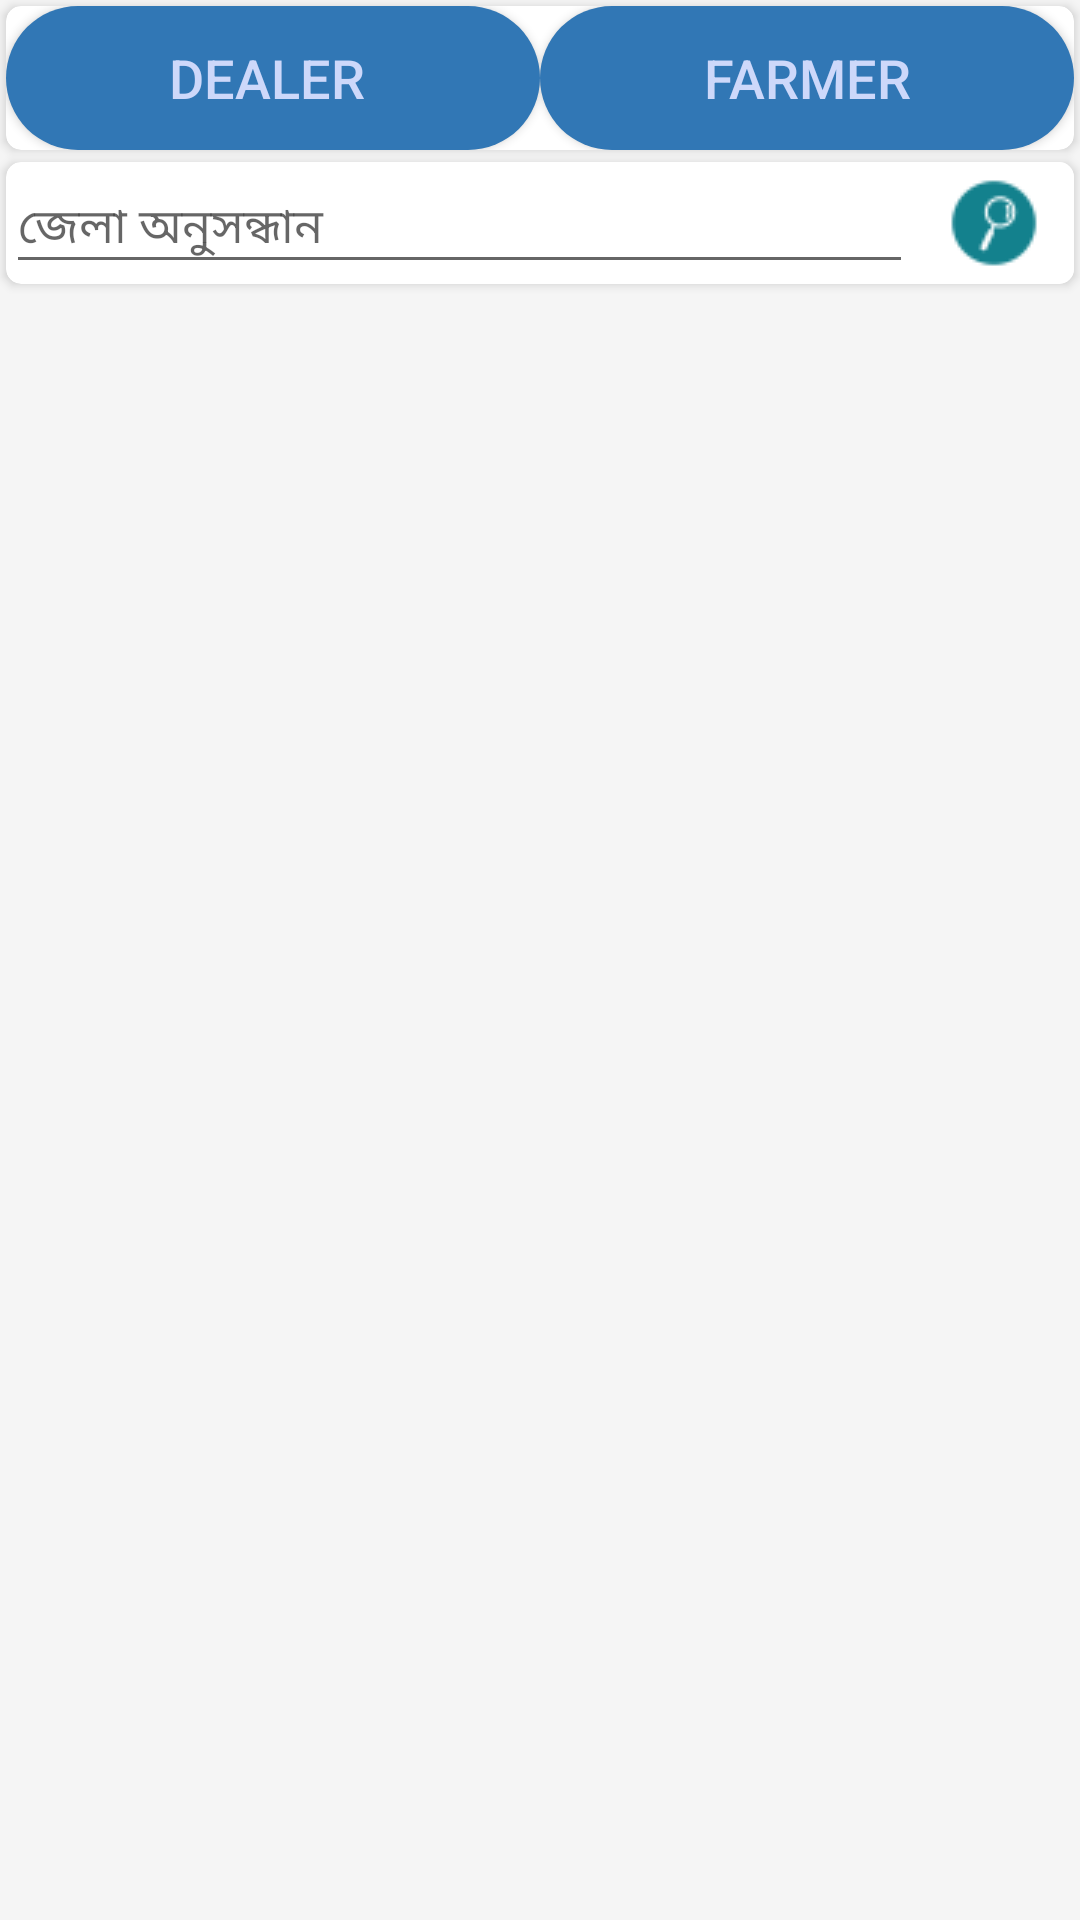

Locate icon controls on the screen. Image size 1080px x 1920px, boxes as (left=x1, top=y1, right=x2, bottom=y2).
search: (left=951, top=180, right=1037, bottom=266)
